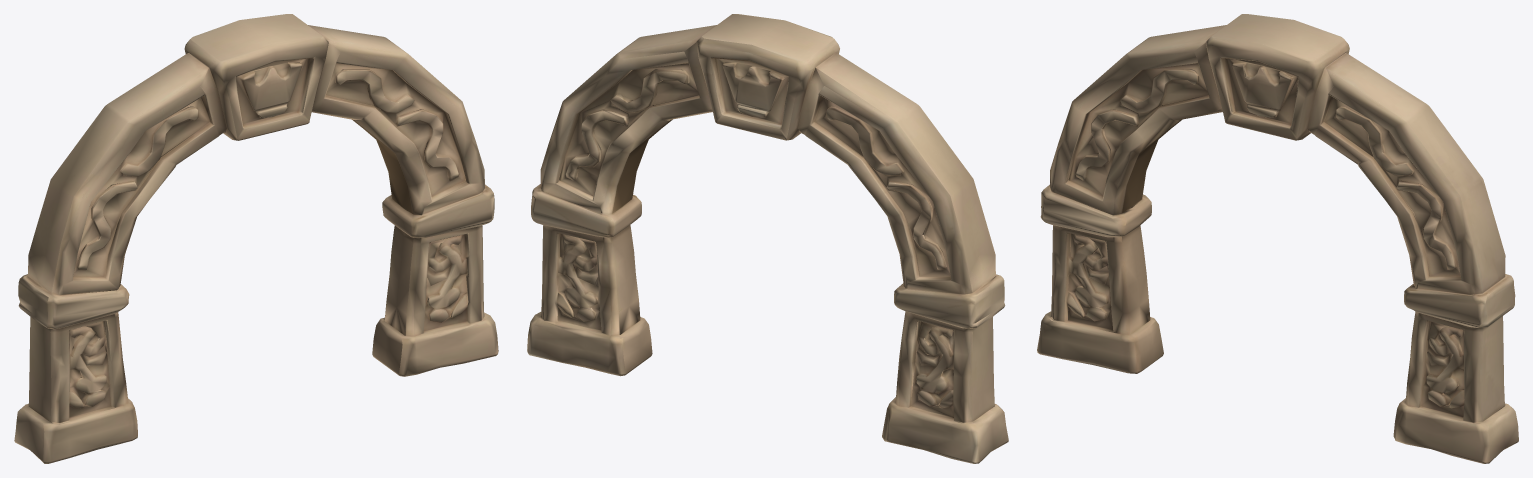
The model's file is stone_arch_v3.glb.
3 views of the same model, side by side, from view 1: azimuth 30°, elevation 25°; view 2: azimuth 150°, elevation 25°; view 3: azimuth 330°, elevation 25° (orthographic).
Parts seen in each view (by area): view 1: tripo_node_e3306d24-7bea-440e-81f6-facfd57c841a; view 2: tripo_node_e3306d24-7bea-440e-81f6-facfd57c841a; view 3: tripo_node_e3306d24-7bea-440e-81f6-facfd57c841a.
Part boxes in pixels (box(x1,y1,x2,y2)): tripo_node_e3306d24-7bea-440e-81f6-facfd57c841a: box(14, 14, 498, 463); tripo_node_e3306d24-7bea-440e-81f6-facfd57c841a: box(527, 14, 1008, 463); tripo_node_e3306d24-7bea-440e-81f6-facfd57c841a: box(1037, 14, 1518, 463).
Size of the model in its own units: 109 by 83.48 by 16.
1 material, 1 textured.
